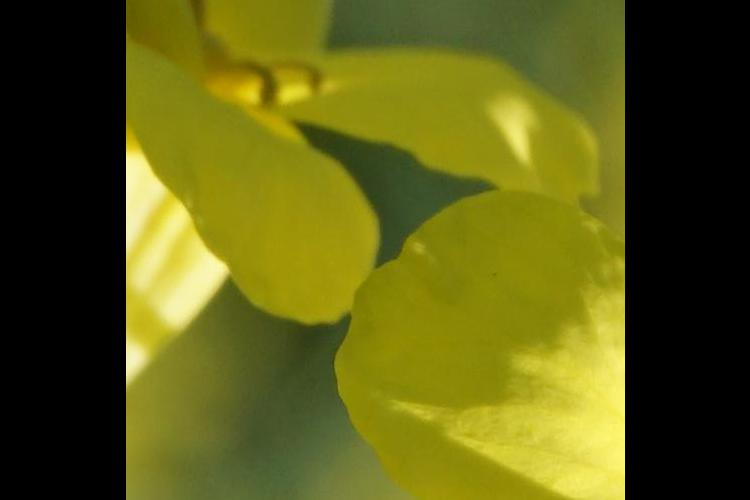yellow: (143, 1, 481, 307), (343, 210, 601, 500)
